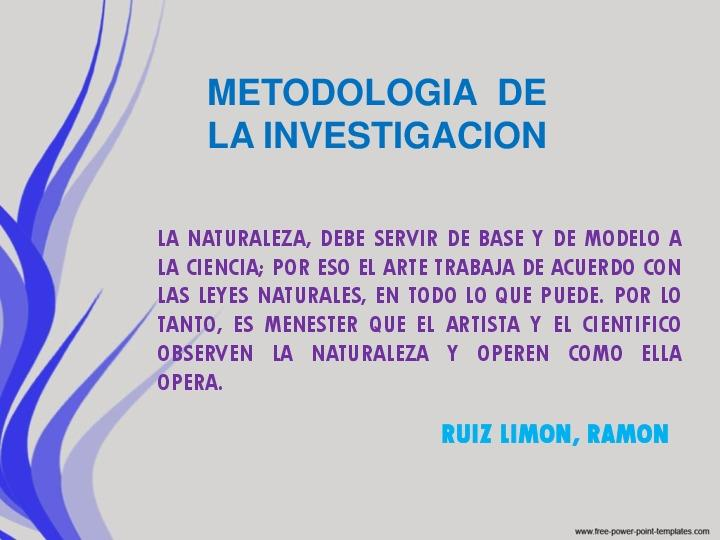paragraph: (127, 206, 720, 471)
title: (180, 61, 573, 161)
